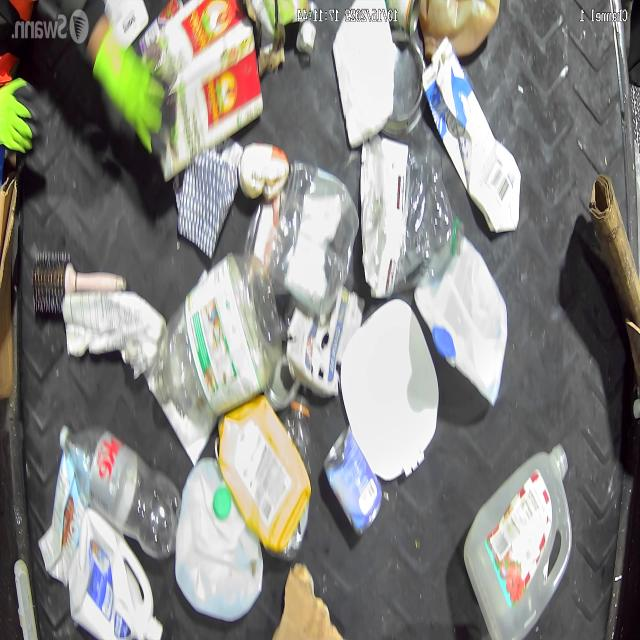can: (324, 431, 379, 526)
milk_jug: (470, 447, 570, 626), (174, 448, 259, 616), (422, 236, 505, 392)
non_white_jug: (215, 406, 311, 551)
plastic_bottle: (154, 250, 282, 426), (60, 426, 177, 552)
